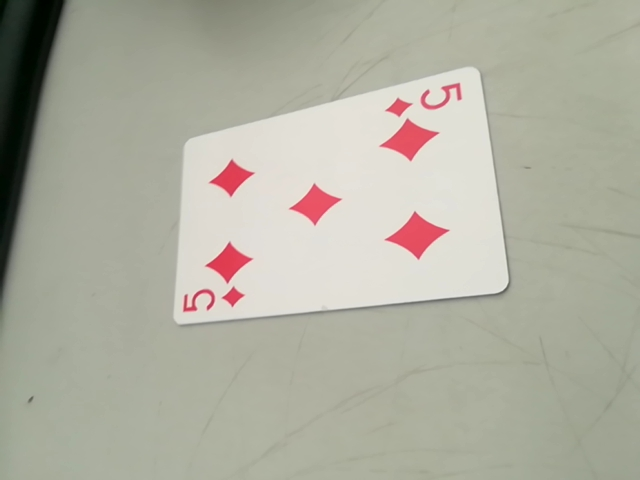fk 5: (384, 81, 469, 118), (178, 282, 249, 323)
